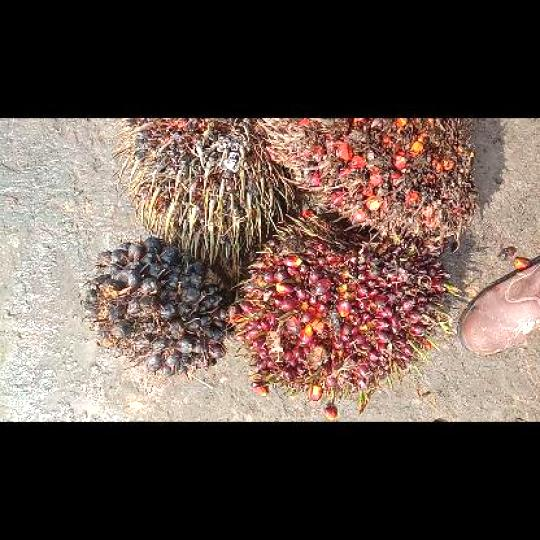masak: (228, 215, 452, 402)
terlalu masak: (258, 117, 477, 259)
